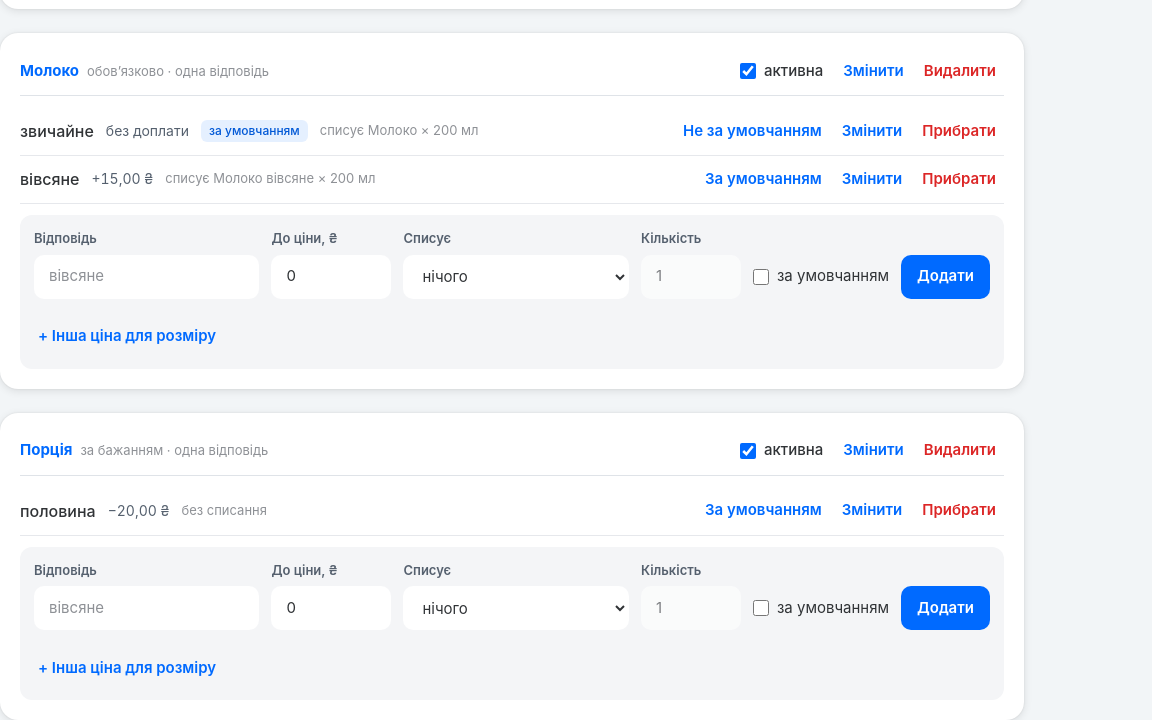
Test: ModifiersPage › deletes a question after asking, and drops its card
The width and height of the screenshot is (1152, 720).
(page scrolled)
Expected: the element with test id "group-card-2" is shown, top-left (0, 412), bottom-right (1024, 719)
Click the button with test id "group-delete-2" at (960, 450), box top-left (916, 432), bottom-right (1004, 468)
(page scrolled)
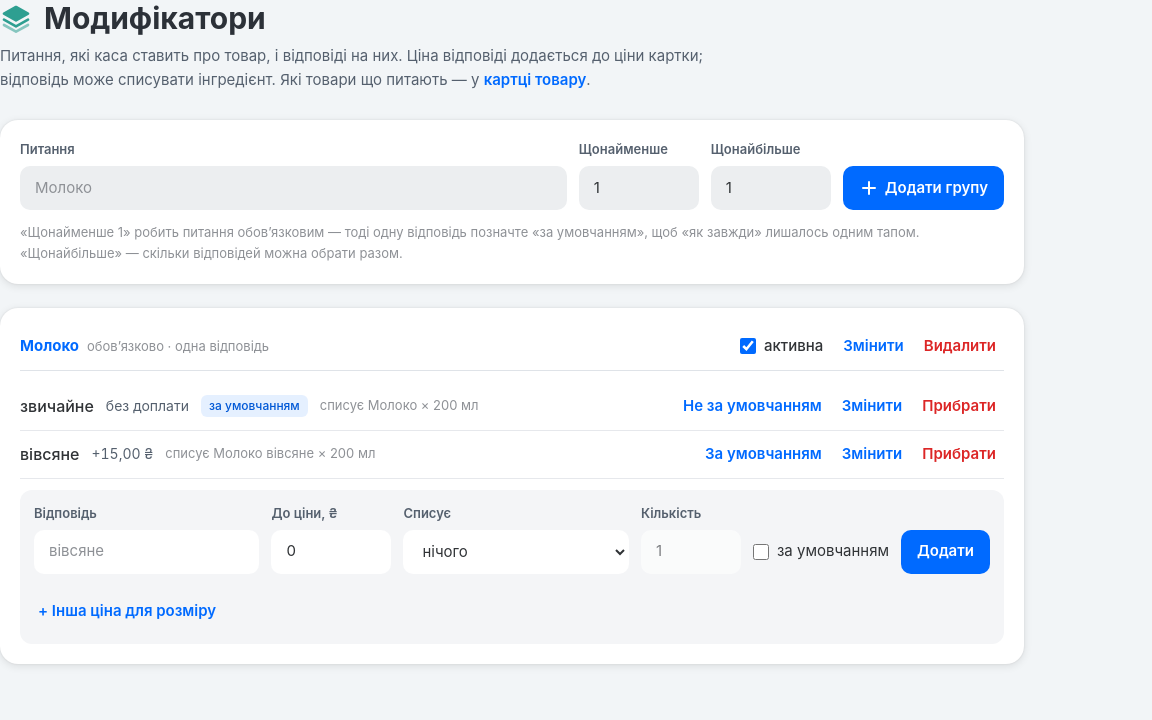
Expected: the element with test id "group-card-2" is gone
